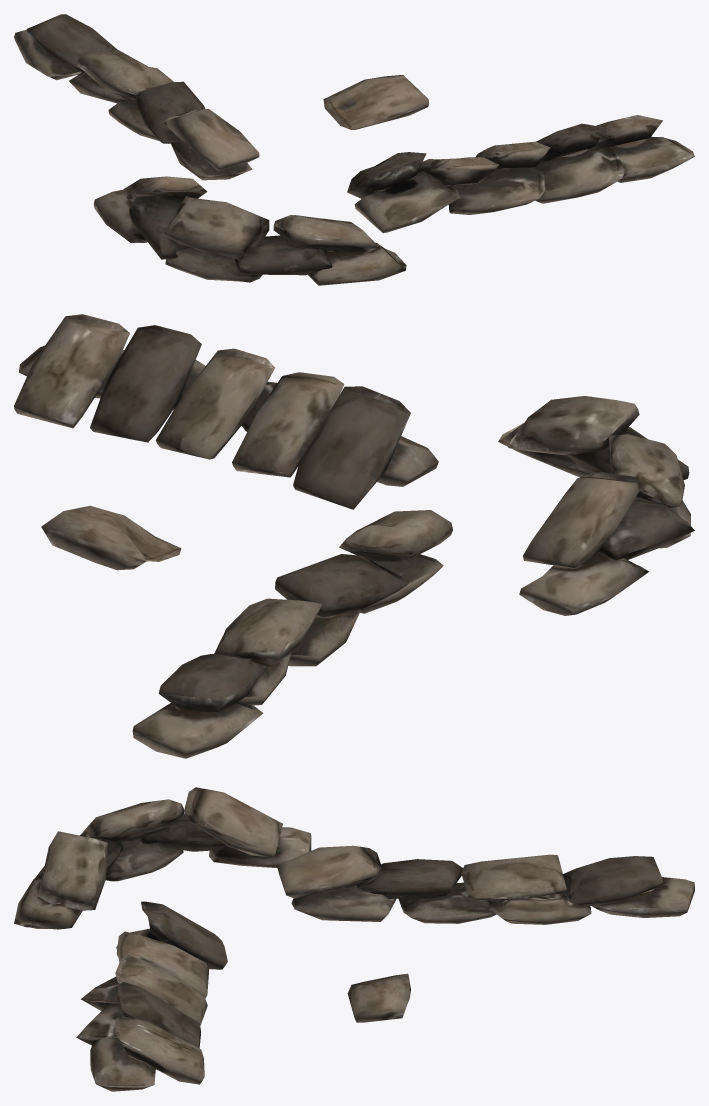
File: sandbags.lod0.glb
3 views of the same model, one above another, from view 1: azimuth 30°, elevation 25°; view 2: azimuth 150°, elevation 25°; view 3: azimuth 270°, elevation 25° (orthographic). The views are drawn at different scales.
Parts seen in each view (by area): view 1: Object_2; view 2: Object_2; view 3: Object_2.
Boxes of the visible parts, left/top/right/bottom form: Object_2: left=14, top=14, right=694, bottom=285; Object_2: left=14, top=314, right=694, bottom=758; Object_2: left=14, top=787, right=694, bottom=1091.
Size of the model in its own units: 9.09 by 1.22 by 10.17.
1 material, 1 textured.
